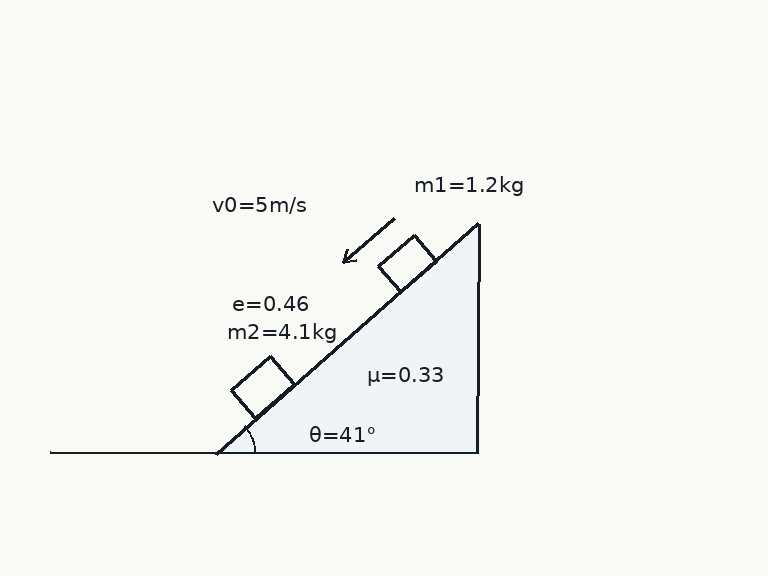block: (229, 354, 296, 420), (377, 233, 438, 293)
ramp: (213, 221, 481, 455)
